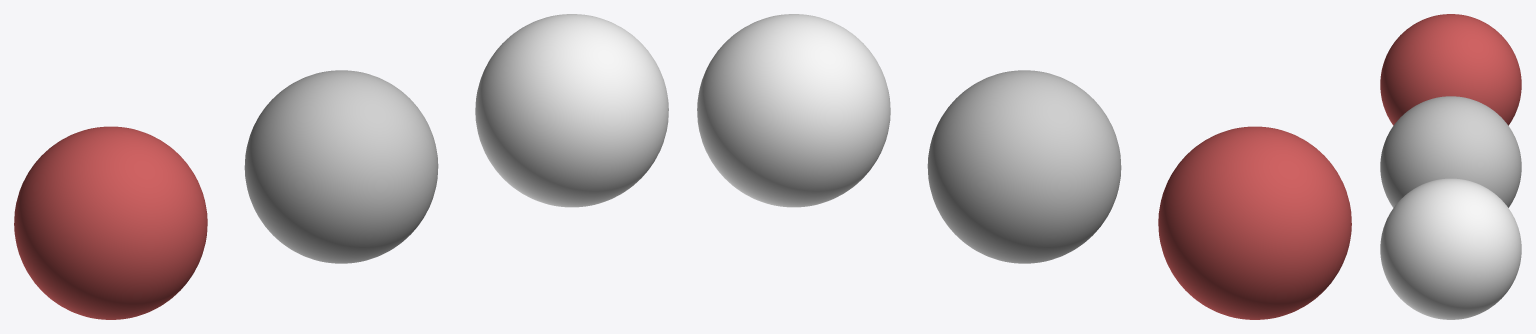
Rendered from area_light_floor.gltf.
3 views of the same model, side by side, from view 1: azimuth 30°, elevation 25°; view 2: azimuth 150°, elevation 25°; view 3: azimuth 270°, elevation 25° (orthographic). The views are drawn at different scales.
Size of what is drawn, in the model's own units: 3 by 0.8 by 0.8.
